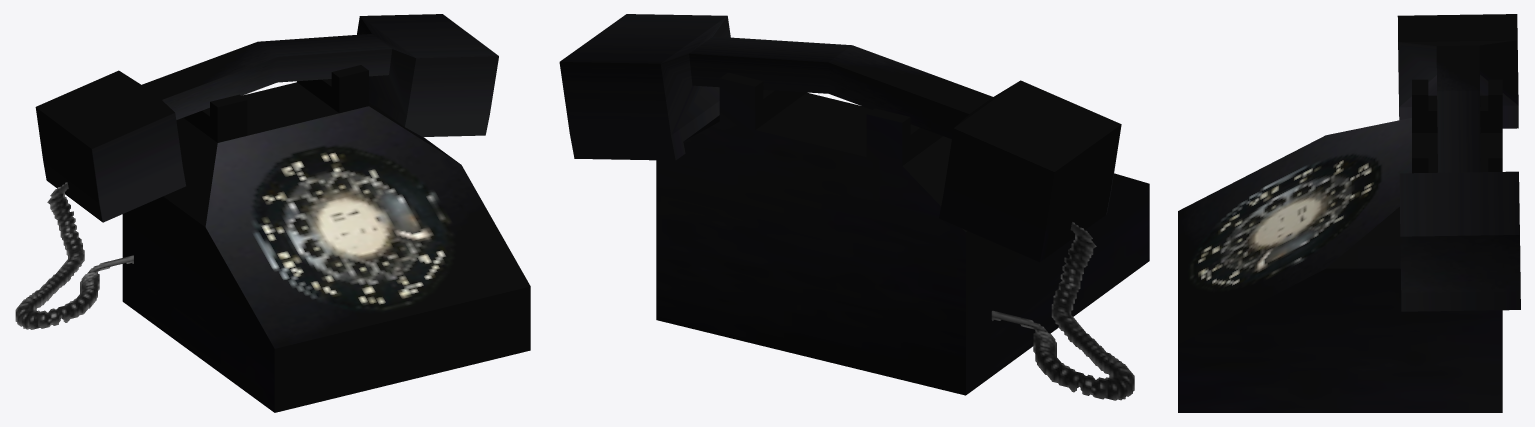
3 views of the same model, side by side, from view 1: azimuth 30°, elevation 25°; view 2: azimuth 150°, elevation 25°; view 3: azimuth 270°, elevation 25° (orthographic). The views are drawn at different scales.
Visible parts, largest first — view 1: pad .002, pad .003, pad .001; view 2: pad .002, pad .003, pad .001; view 3: pad .002, pad .003.
Boxes of the visible parts, left/top/right/bottom form: pad .002: left=122, top=65, right=530, bottom=412; pad .003: left=35, top=14, right=498, bottom=222; pad .001: left=15, top=182, right=133, bottom=329; pad .002: left=656, top=72, right=1149, bottom=395; pad .003: left=559, top=14, right=1121, bottom=261; pad .001: left=991, top=222, right=1134, bottom=400; pad .002: left=1178, top=79, right=1502, bottom=412; pad .003: left=1397, top=14, right=1520, bottom=311.
Size of the model in its own units: 314 by 157 by 192.
